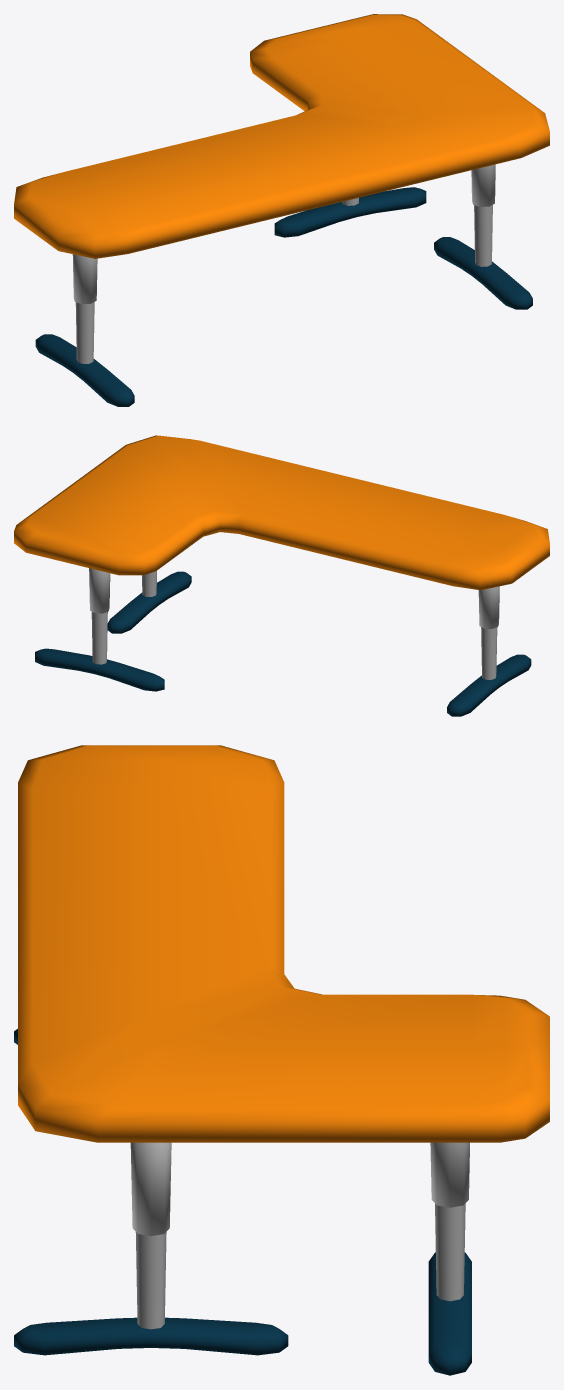
Rendered from Corner_Table.FBX.
3 views of the same model, one above another, from view 1: azimuth 30°, elevation 25°; view 2: azimuth 150°, elevation 25°; view 3: azimuth 270°, elevation 25° (orthographic). The views are drawn at different scales.
Visible parts, largest first — view 1: Corner_Table; view 2: Corner_Table; view 3: Corner_Table.
Boxes of the visible parts, x1,y1,x2,y2 form: Corner_Table: (14,14,549,406); Corner_Table: (14,435,549,716); Corner_Table: (14,745,549,1375).
Size of the model in its own units: 2.65 by 0.8822 by 1.6.
